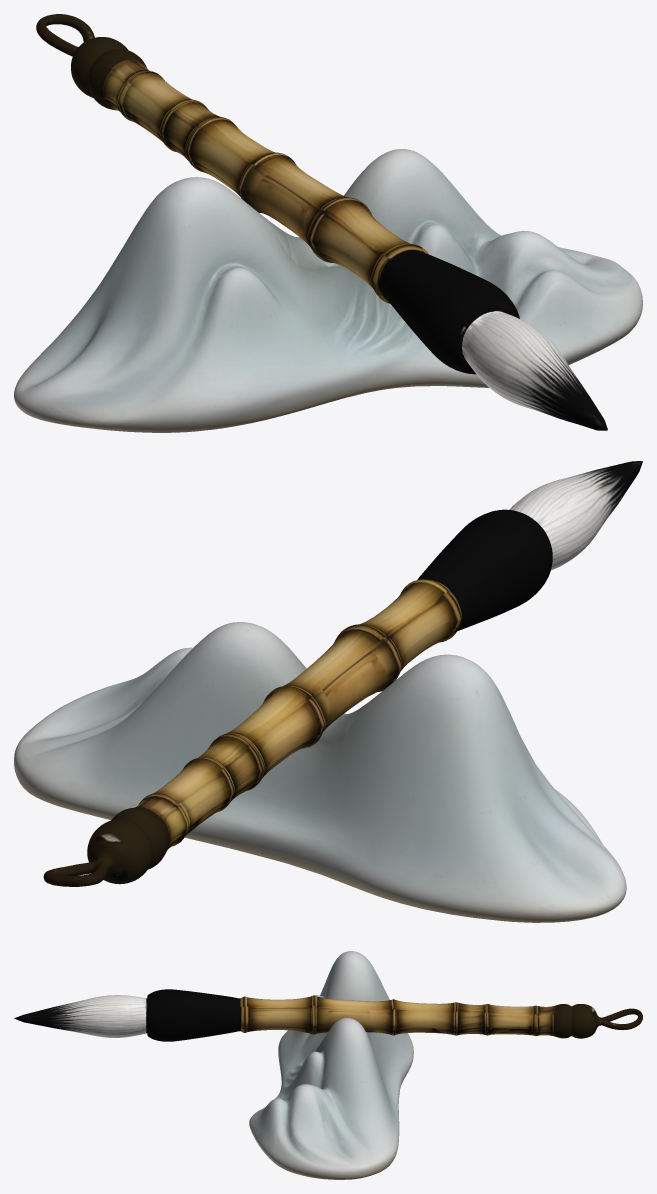
File: brush_rest.glb
The picture shows the model from 3 angles, top to bottom: view 1: azimuth 30°, elevation 25°; view 2: azimuth 150°, elevation 25°; view 3: azimuth 270°, elevation 25°; orthographic projection. The views are drawn at different scales.
Parts seen in each view (by area): view 1: pivot; view 2: pivot; view 3: pivot.
Boxes of the visible parts, x1=… form: pivot: x1=14, y1=14, x2=642, y2=432; pivot: x1=14, y1=461, x2=642, y2=922; pivot: x1=14, y1=951, x2=642, y2=1179.
Bounding box in the file's own units: 1.34 × 0.4375 × 2.2.
1 material, 1 textured.
